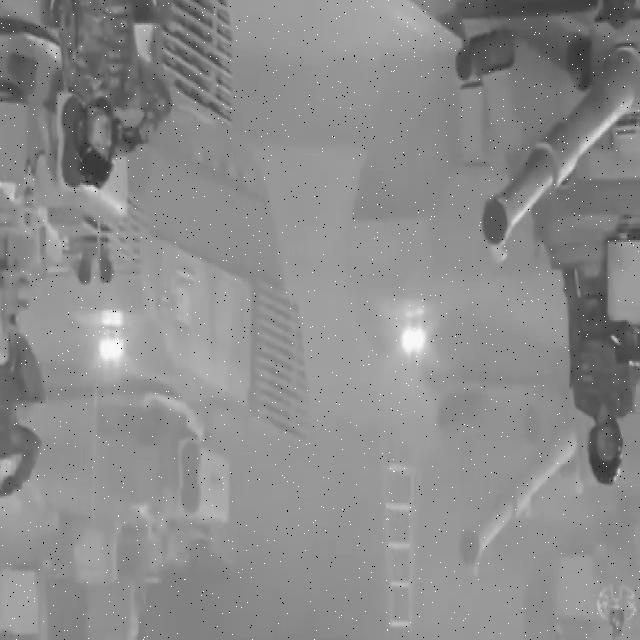north tank: (0, 119, 309, 638), (335, 94, 591, 576), (391, 0, 640, 349), (0, 0, 275, 293)
